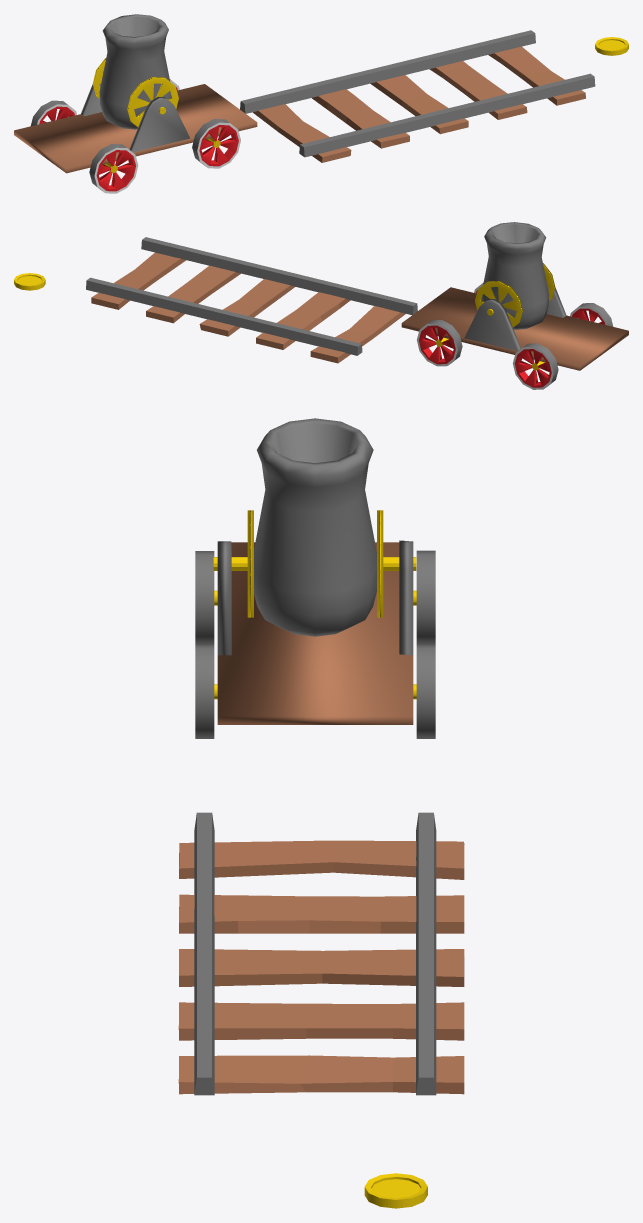
File: BombingModal 1.fbx
3 views of the same model, one above another, from view 1: azimuth 30°, elevation 25°; view 2: azimuth 150°, elevation 25°; view 3: azimuth 270°, elevation 25° (orthographic). The views are drawn at different scales.
Parts seen in each view (by area): view 1: Rails, Platdorm, Gun, Wheel2.002, Wheel2.001, Coin; view 2: Rails, Platdorm, Gun, Wheel2.002, Wheel2.001, Coin; view 3: Rails, Platdorm, Gun, Wheel2.001, Wheel2.002, Coin.
Boxes of the visible parts, box(x1,y1,x2,y2) form: Rails: box(240, 30, 595, 162); Platdorm: box(14, 71, 257, 173); Gun: box(92, 14, 178, 129); Wheel2.002: box(31, 100, 138, 193); Wheel2.001: box(170, 79, 240, 168); Coin: box(595, 37, 628, 55); Rails: box(86, 237, 417, 363); Platdorm: box(401, 276, 628, 370); Gun: box(475, 222, 555, 329); Wheel2.002: box(512, 303, 613, 389); Wheel2.001: box(417, 282, 483, 366); Coin: box(14, 273, 45, 290); Rails: box(178, 812, 464, 1095); Platdorm: box(213, 540, 416, 724); Gun: box(247, 418, 383, 636); Wheel2.001: box(195, 644, 435, 738); Wheel2.002: box(195, 550, 435, 644); Coin: box(364, 1173, 427, 1208).
Size of the model in its own units: 4143 by 1041 by 901.
